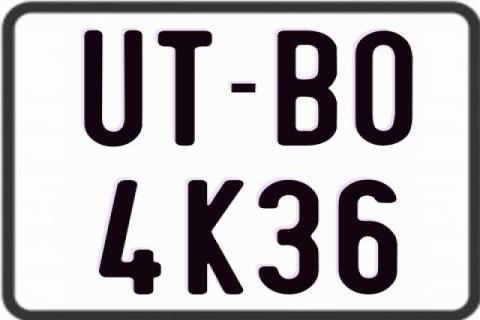0: (96, 178, 161, 292), (336, 180, 397, 298), (354, 30, 414, 148), (258, 178, 318, 294)
B: (275, 28, 338, 144)
K: (188, 178, 250, 292)
T: (155, 28, 210, 143)
U: (81, 28, 142, 148)
